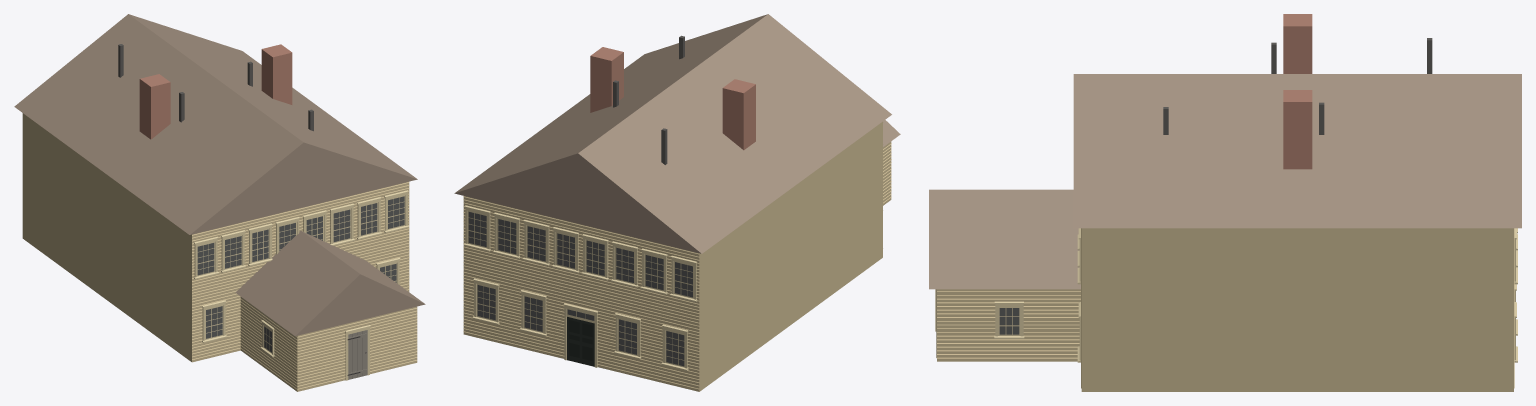
File: recon_1835_blk_washington_market_h3_04__inferred_1835.glb
The picture shows the model from 3 angles, left to right: view 1: azimuth 30°, elevation 25°; view 2: azimuth 150°, elevation 25°; view 3: azimuth 270°, elevation 25°; orthographic projection. The views are drawn at different scales.
Visible parts, largest first — view 1: recon_1835_blk_washington_market_h3_04__inferred_1835; view 2: recon_1835_blk_washington_market_h3_04__inferred_1835; view 3: recon_1835_blk_washington_market_h3_04__inferred_1835.
Part boxes in pixels (x1,y1,x2,y2): recon_1835_blk_washington_market_h3_04__inferred_1835: (14,14,425,391); recon_1835_blk_washington_market_h3_04__inferred_1835: (454,14,900,391); recon_1835_blk_washington_market_h3_04__inferred_1835: (929,14,1521,391).
Size of the model in its own units: 10.48 by 9.14 by 18.45.
